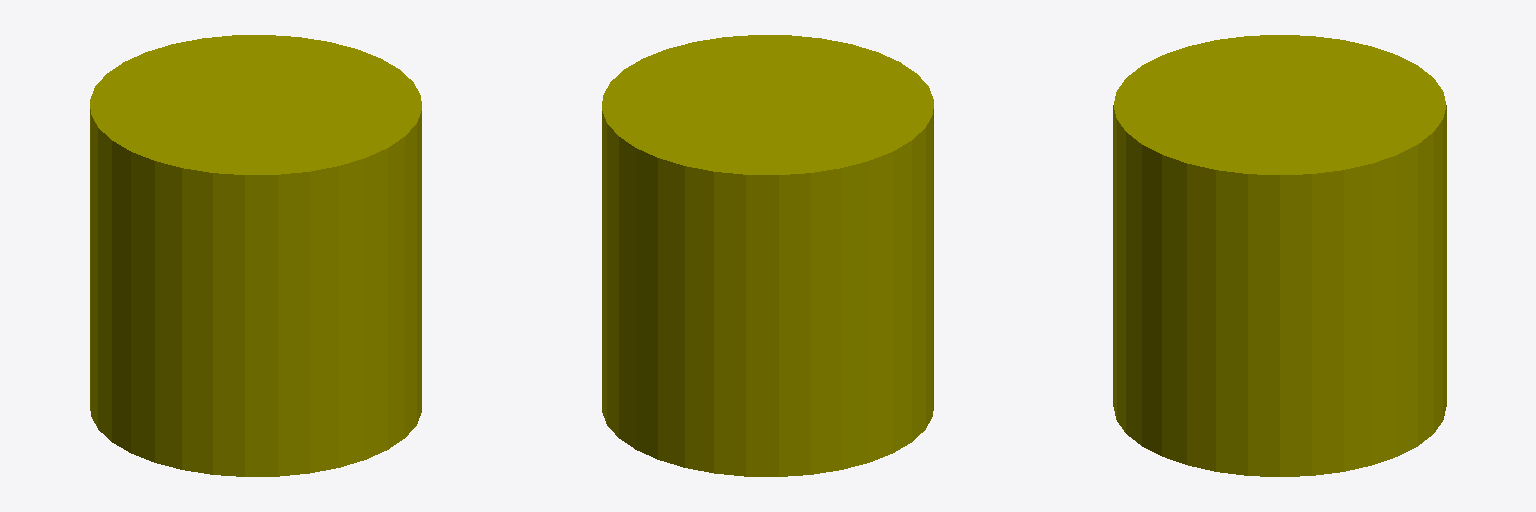
The model's file is candlecylinder.obj.
3 views of the same model, side by side, from view 1: azimuth 30°, elevation 25°; view 2: azimuth 150°, elevation 25°; view 3: azimuth 270°, elevation 25° (orthographic).
Parts seen in each view (by area): view 1: Cylinder; view 2: Cylinder; view 3: Cylinder.
Part boxes in pixels (x1,y1,x2,y2): Cylinder: (90, 35, 421, 476); Cylinder: (602, 35, 933, 476); Cylinder: (1113, 35, 1446, 476).
Size of the model in its own units: 2 by 2 by 2.